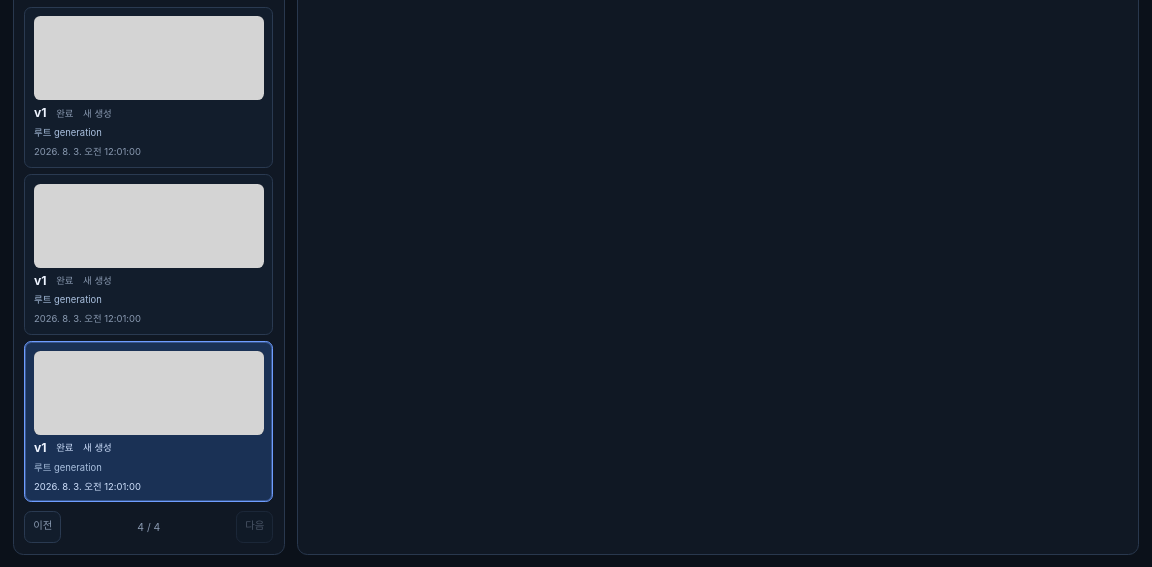
Test: KeyframeWorkspace › many-generation history는 한 페이지의 thumbnail DOM만 유지한다
The width and height of the screenshot is (1152, 567).
(page scrolled)
Expected: the button with aria-label "generation-many-080" is shown, [24,341,273,502]
Click the button with aria-label "이전 generation 페이지". click: (43, 527)
box: [24,511,61,543]
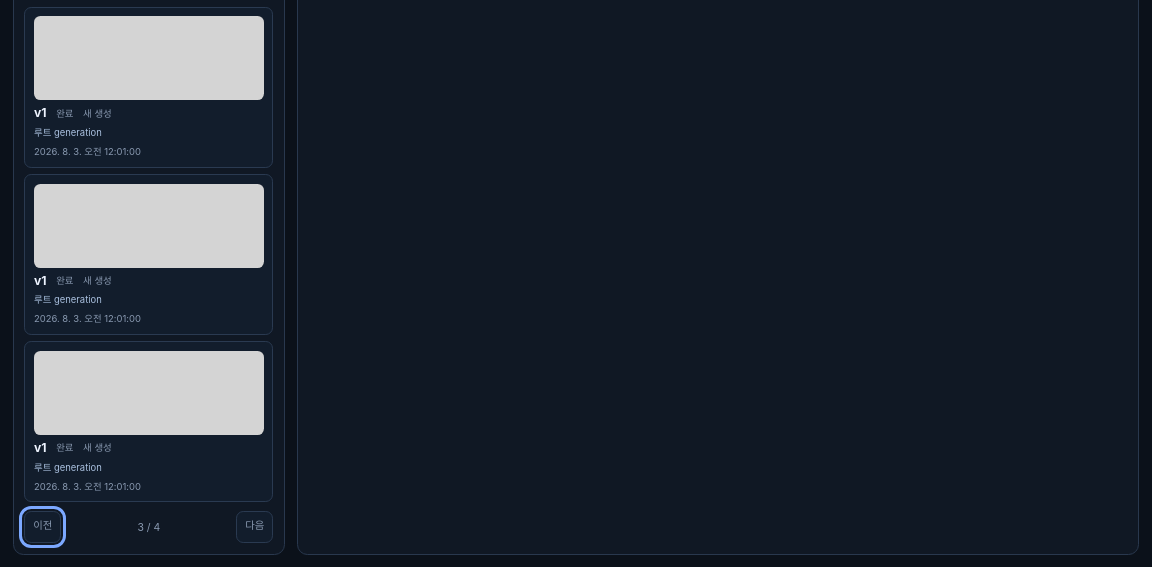
Expected: the button with aria-label "generation-many-056" is shown, [24,341,273,502]
